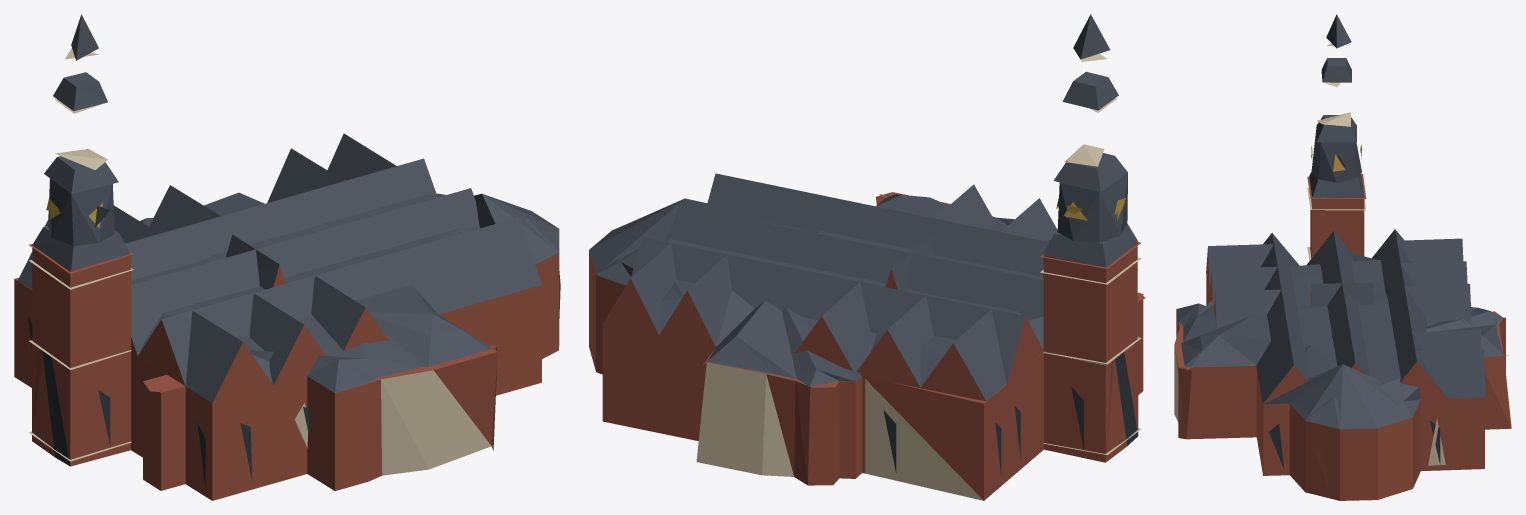
Rendered from oude-kerk.lod2.glb.
3 renders of one model, left to right at view 1: azimuth 30°, elevation 25°; view 2: azimuth 150°, elevation 25°; view 3: azimuth 270°, elevation 25°, orthographic. The views are drawn at different scales.
Visible parts, largest first — view 1: lod2; view 2: lod2; view 3: lod2.
Part boxes in pixels (x1=…): lod2: x1=14, y1=14, x2=560, y2=500; lod2: x1=589, y1=14, x2=1145, y2=500; lod2: x1=1174, y1=14, x2=1511, y2=500.
Bounding box in the file's own units: 82.53 × 66.11 × 64.04.
